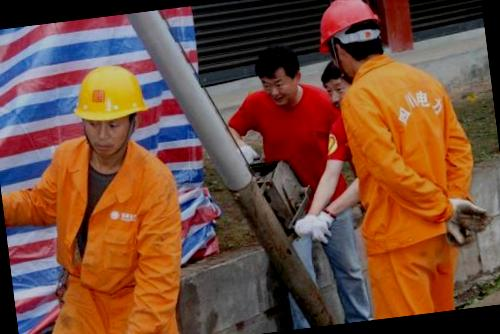no_helmet: (252, 42, 306, 110), (319, 58, 368, 114)
